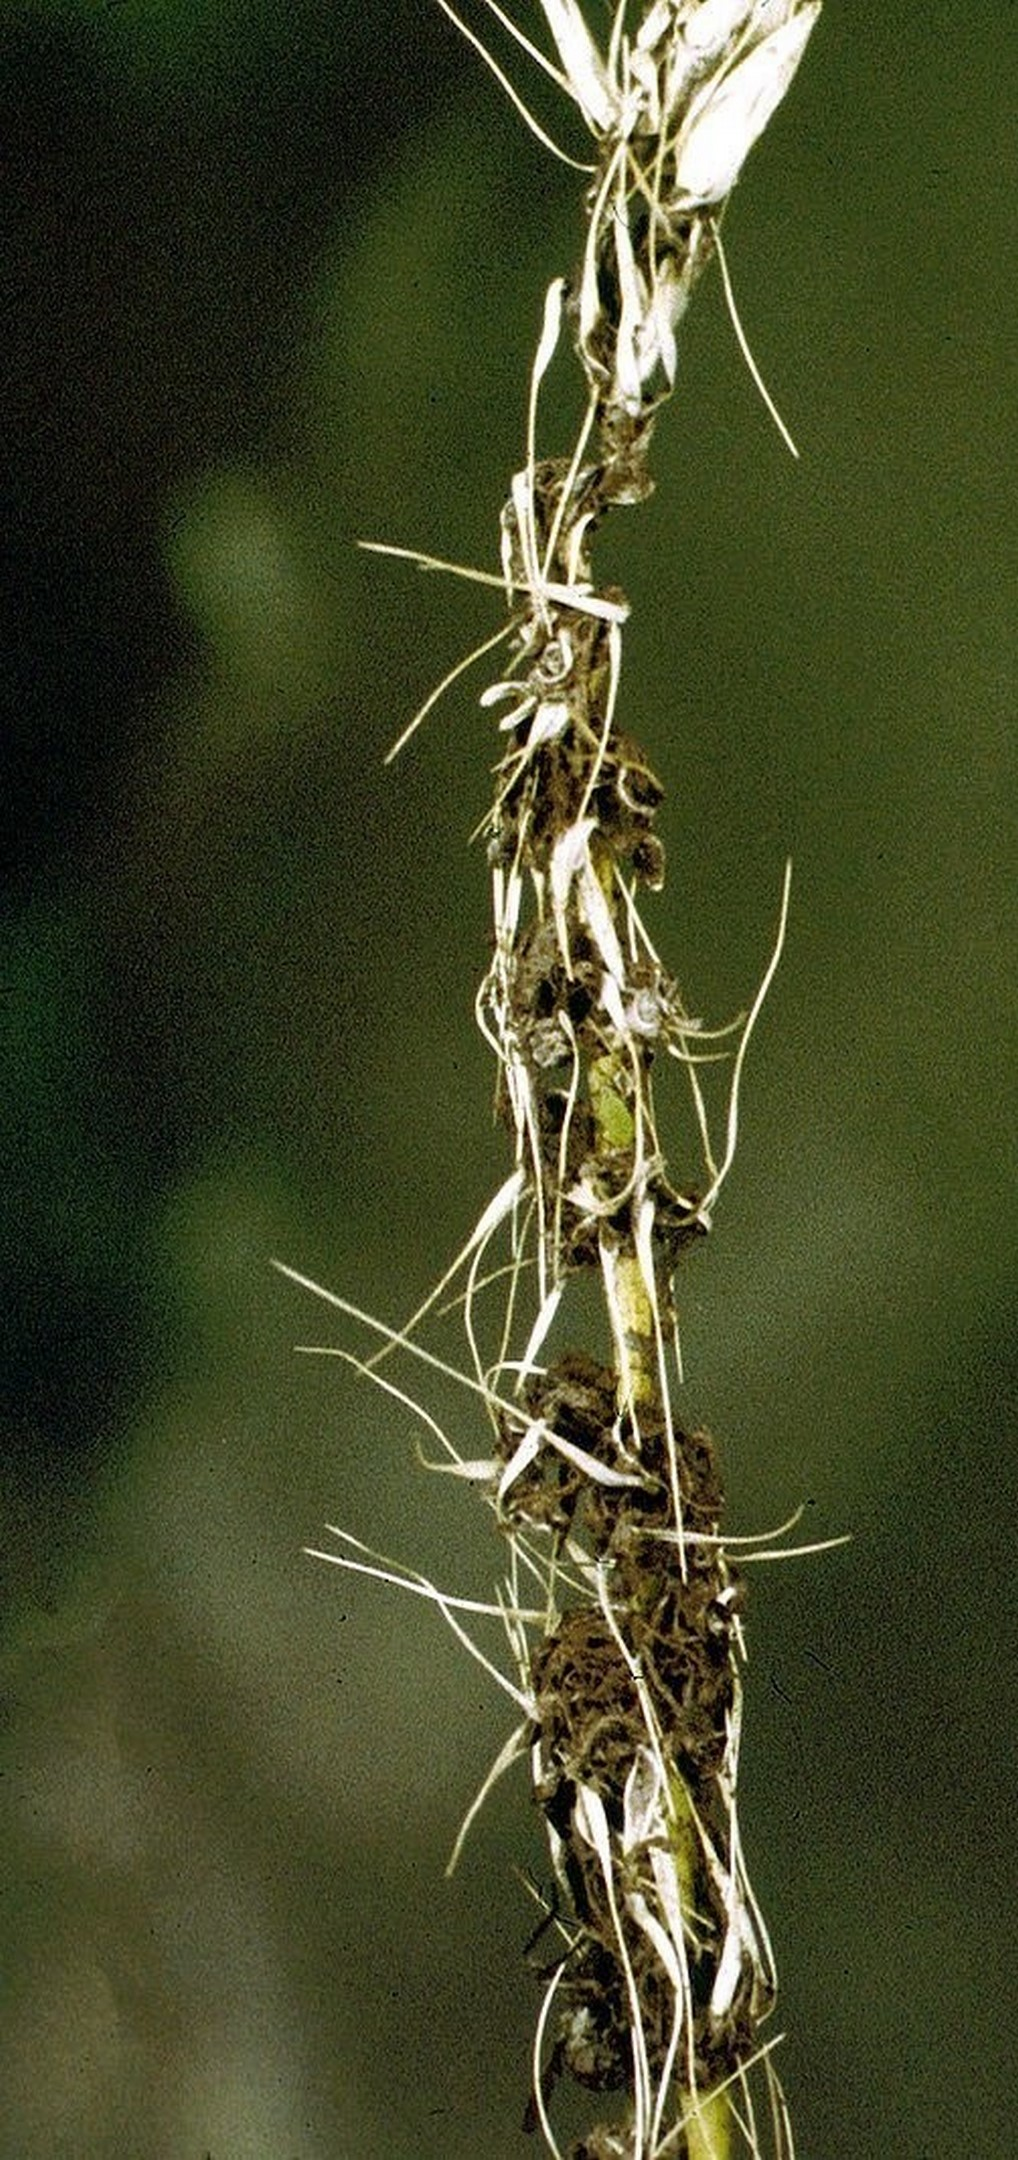Wheat Loose Smut: (364, 67, 912, 2040)
